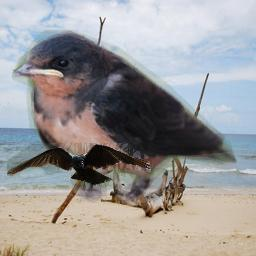Crow: (7, 143, 152, 193)
Swallow: (12, 30, 237, 203)
